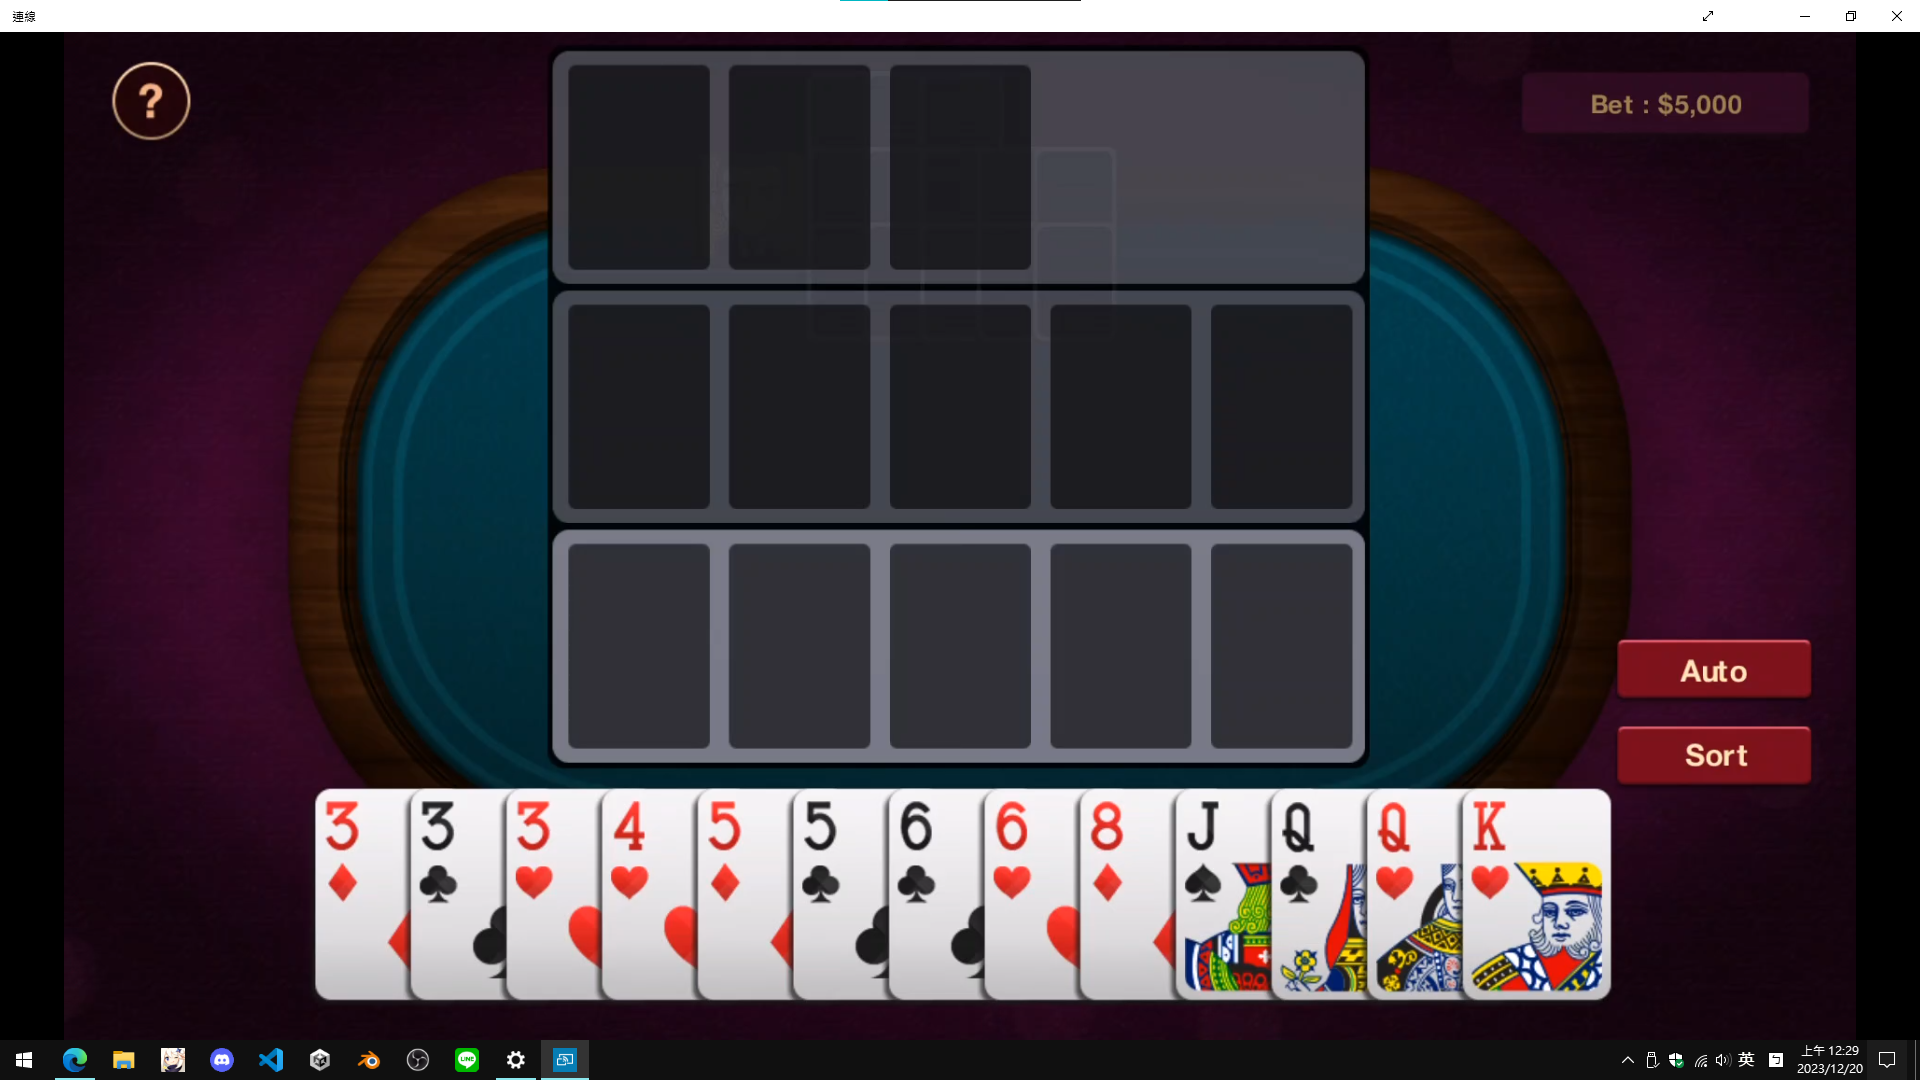3C: (415, 800, 465, 906)
3D: (320, 798, 367, 906)
3H: (512, 794, 555, 905)
4H: (609, 796, 654, 906)
5C: (802, 796, 841, 911)
5D: (705, 796, 744, 905)
6C: (895, 796, 940, 911)
6H: (988, 798, 1036, 906)
8D: (1088, 796, 1130, 910)
JS: (1185, 796, 1226, 909)
KH: (1468, 796, 1513, 902)
QC: (1279, 800, 1321, 909)
QH: (1374, 794, 1420, 910)
